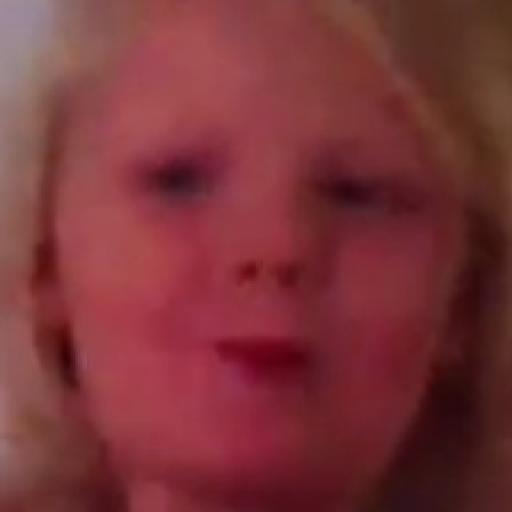Autism: (70, 55, 512, 511)
